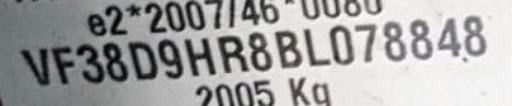letter: (181, 36, 219, 78), (125, 38, 159, 81), (406, 14, 436, 62), (214, 32, 248, 74), (152, 35, 184, 79), (73, 40, 105, 84), (17, 44, 51, 83), (434, 15, 464, 59), (380, 19, 408, 66), (302, 25, 332, 68), (100, 38, 130, 81), (244, 29, 274, 71), (328, 22, 356, 66), (462, 12, 488, 59), (273, 29, 303, 69), (353, 21, 379, 64), (50, 43, 76, 85)
